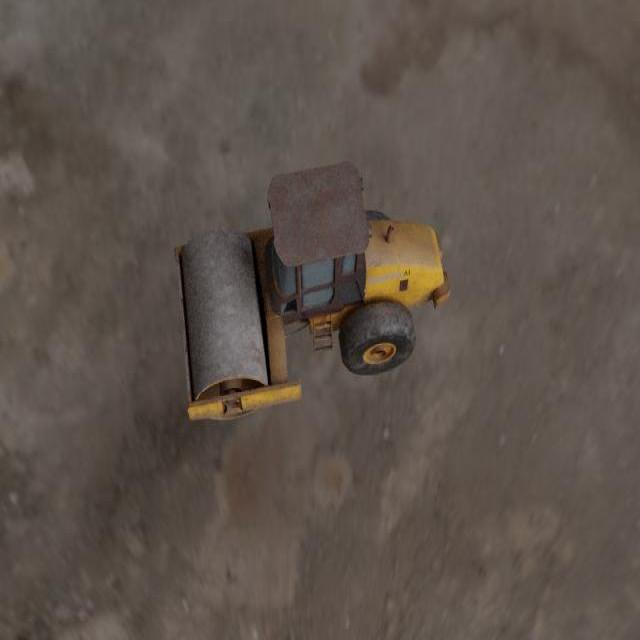Roller: (173, 160, 450, 420)
